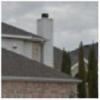chimneys: (36, 12, 56, 70)
